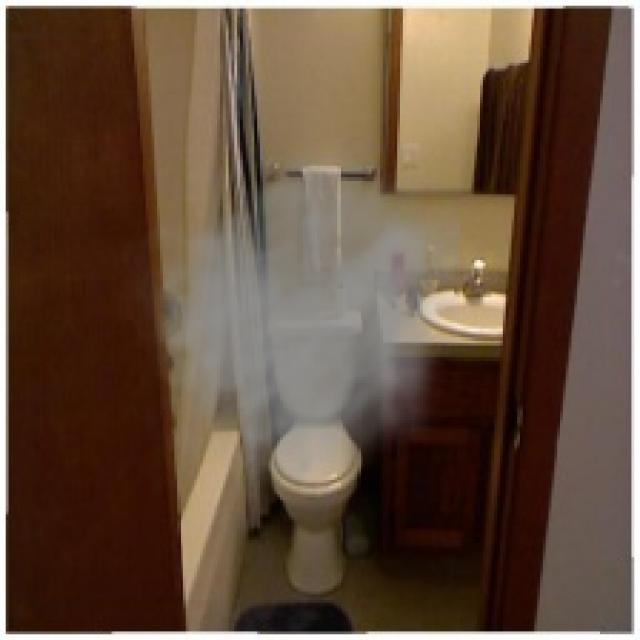smoke: (117, 131, 460, 506)
